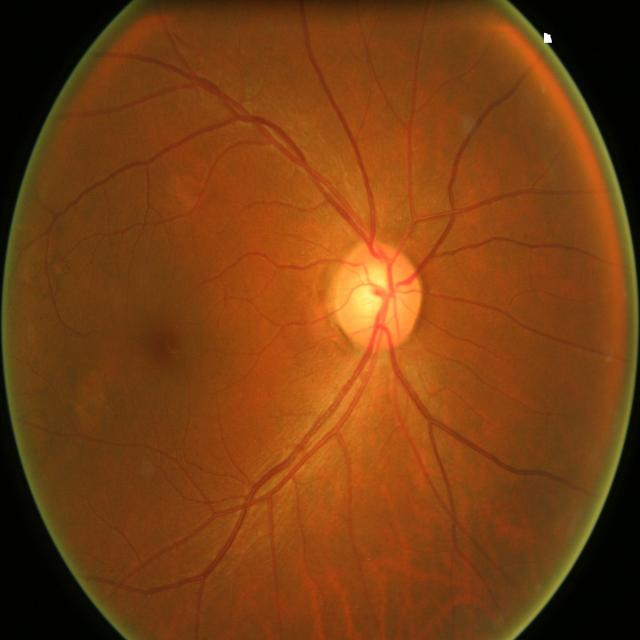OC: (350, 260, 398, 321)
OD: (333, 240, 421, 348)
